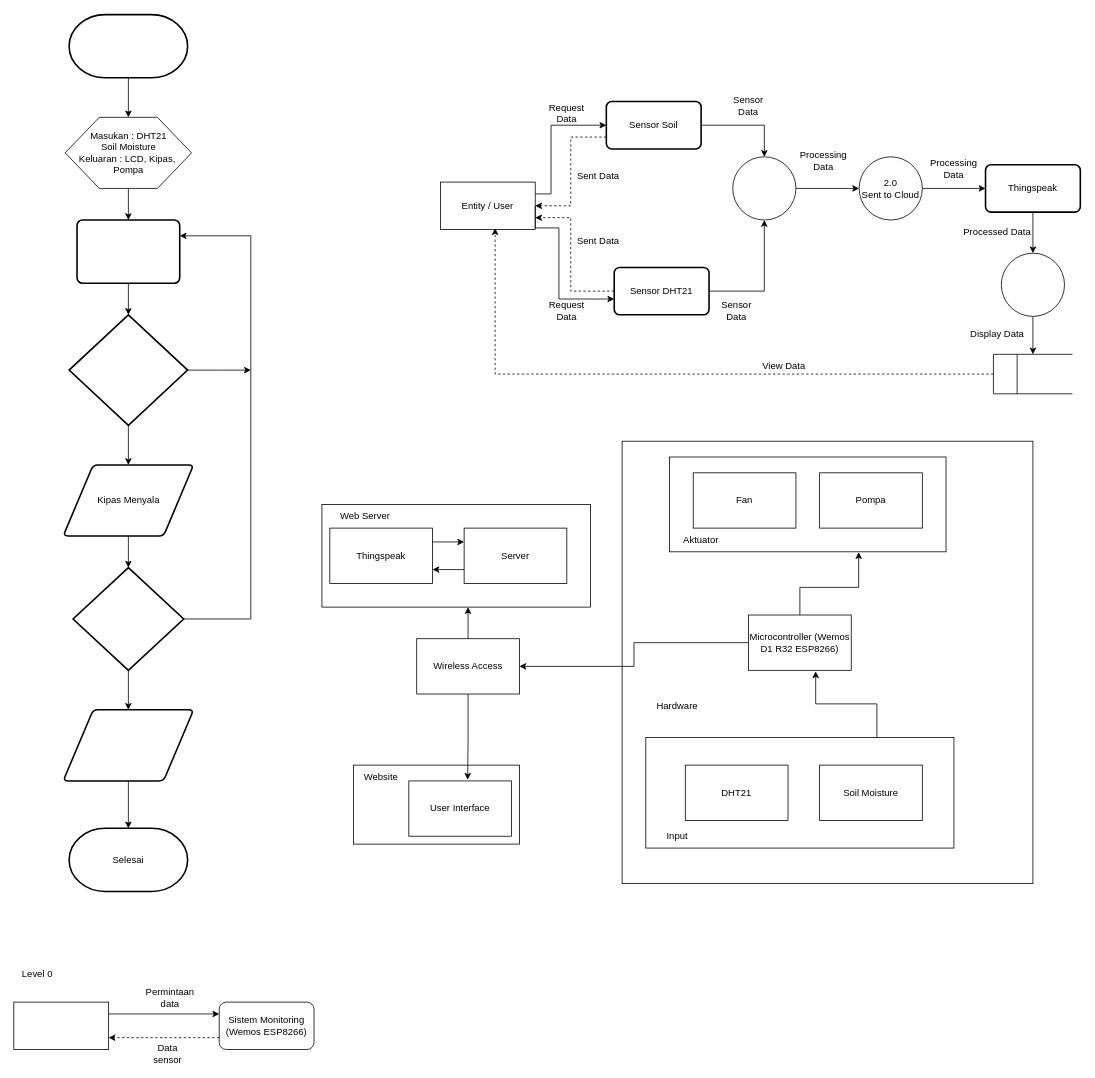
Image size: 1095x1078. Some labels were removed from this diagram. Here are the shapes that lost their labels. From the top down, the centre of each, then its label:
[128,45]: Mulai
[764,188]: 1.0 Read Sensor
[128,251]: Membaca Masukan Sensor
[1033,284]: 3.0 Kirim ke Web Server
[128,370]: Suhu > 24 c && Kelembapan > 70%
[1032,374]: Showing Data on Website
[128,618]: Kelembapan Tanah < 30%
[128,745]: Pompa Menyala
[61,1025]: Entity
